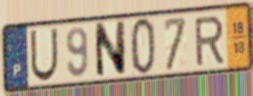0: (130, 16, 157, 77)
7: (164, 15, 187, 72)
9: (65, 26, 89, 80)
N: (92, 19, 127, 81)
R: (193, 13, 226, 68)
U: (28, 27, 59, 84)
